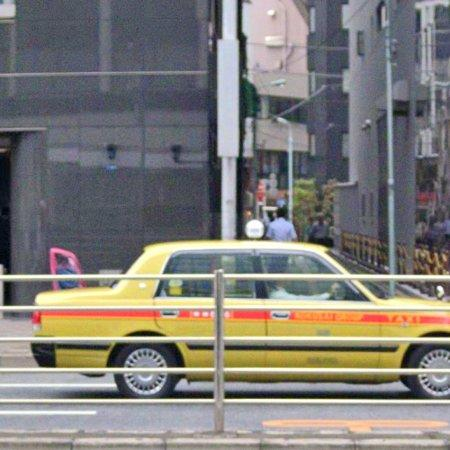taxis: (226, 281, 450, 397), (32, 278, 212, 339), (127, 241, 360, 276), (31, 341, 213, 369), (115, 374, 183, 397)
